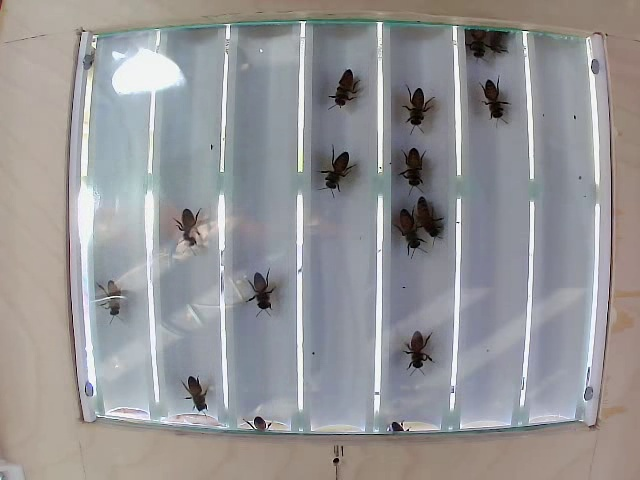bee: (240, 263, 287, 327), (412, 196, 455, 251), (475, 81, 519, 128), (384, 216, 424, 265), (317, 149, 358, 196), (398, 144, 436, 191), (179, 376, 216, 423), (175, 208, 209, 258), (397, 331, 431, 377), (329, 69, 362, 114), (100, 280, 128, 325), (405, 87, 431, 132), (464, 22, 488, 60)
